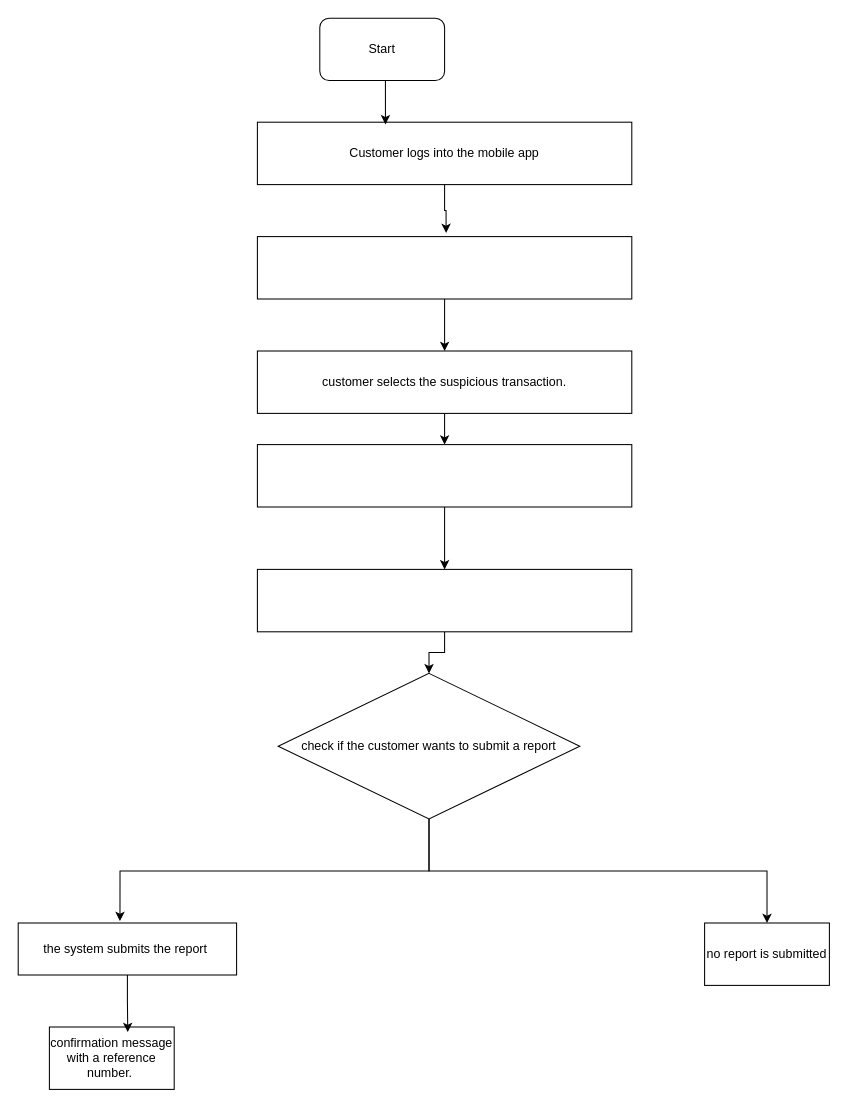
Some shapes in this 848 by 1108 pixel diagram are drawn without their labels. The box of each missing label's shape, as (x1, y1, x2, y2) in pixels:
customer selects “Report a problem.”: (256, 444, 632, 507)
opens their transaction history: (256, 236, 632, 299)
system confirms the customer to if they want to submit a report: (256, 568, 632, 632)
